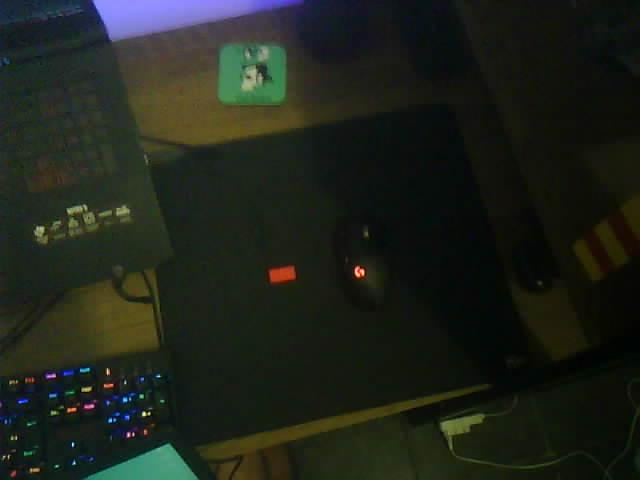lego: (267, 265, 297, 286)
